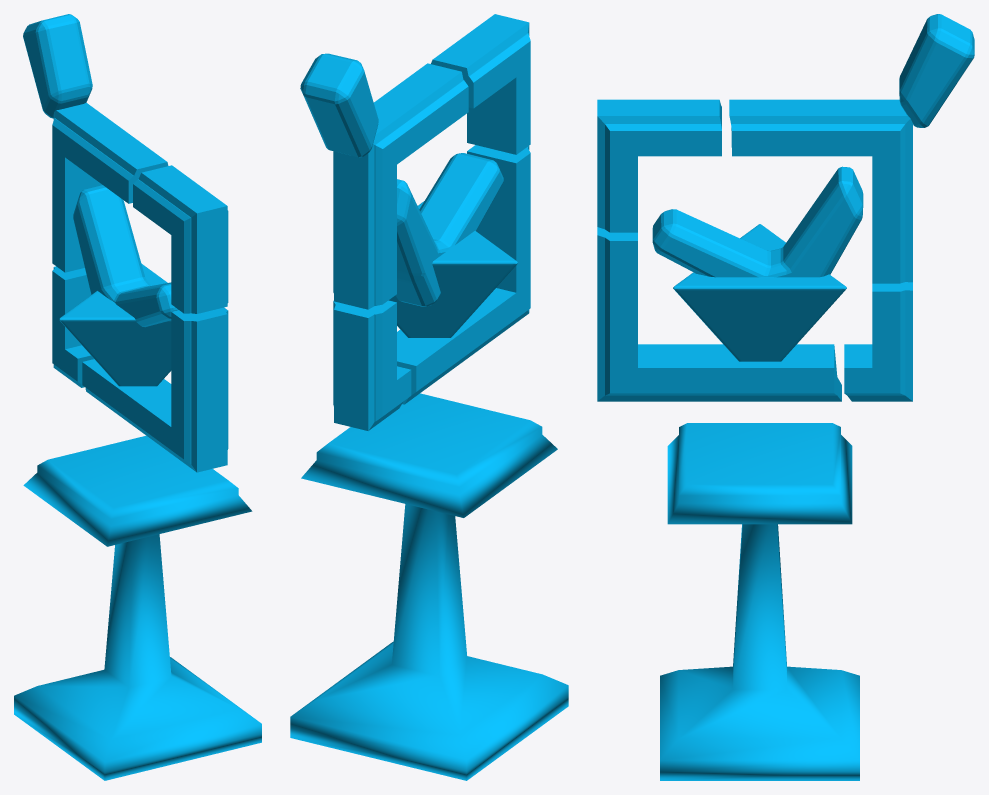
Rendered from Closer.obj.
The picture shows the model from 3 angles, left to right: view 1: azimuth 30°, elevation 25°; view 2: azimuth 150°, elevation 25°; view 3: azimuth 270°, elevation 25°; orthographic projection. The views are drawn at different scales.
Visible parts, largest first — view 1: pCube3, pCube1, pCube2, pCone1; view 2: pCube3, pCube1, pCube2, pCone1; view 3: pCube1, pCube3, pCube2, pCone1.
Part boxes in pixels (x1,y1,x2,y2): pCube3: (14,435,261,780); pCube1: (52,102,228,472); pCube2: (23,14,178,327); pCone1: (59,263,171,386); pCube3: (290,393,568,780); pCube1: (333,14,530,430); pCube2: (300,53,503,306); pCone1: (388,201,517,337); pCube1: (597,99,912,401); pCube3: (660,423,859,780); pCube2: (652,14,974,277); pCone1: (673,224,846,361).
Size of the model in its own units: 0.7124 by 2.82 by 1.35.
